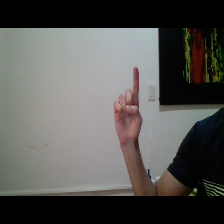2T: (107, 59, 151, 148)
